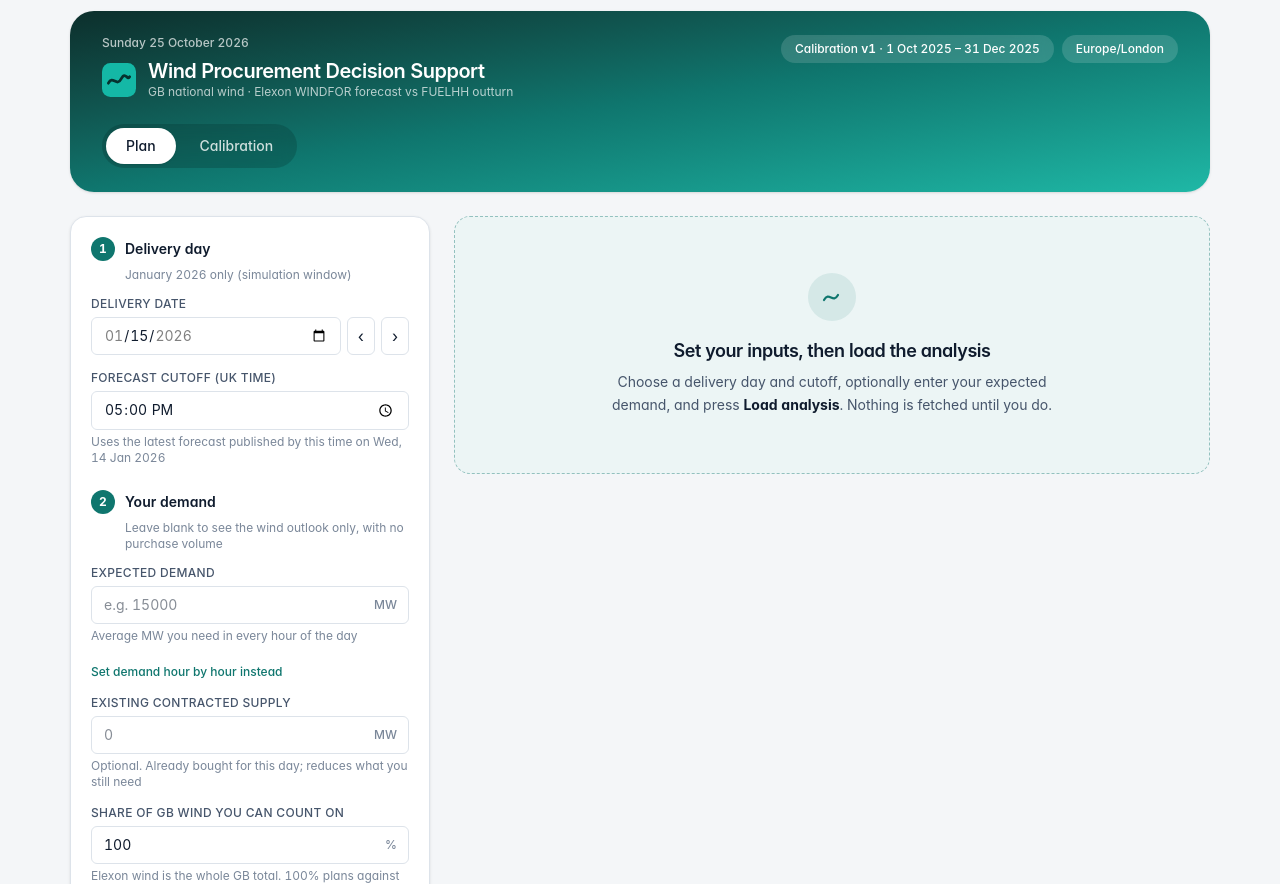
Purchase plan › shows a clear 'no purchase needed' result and the wind-share hint
Step 1. Type "500" into the field labelled "Expected demand" → (250, 605), box 91,586 -> 409,624
(page scrolled)
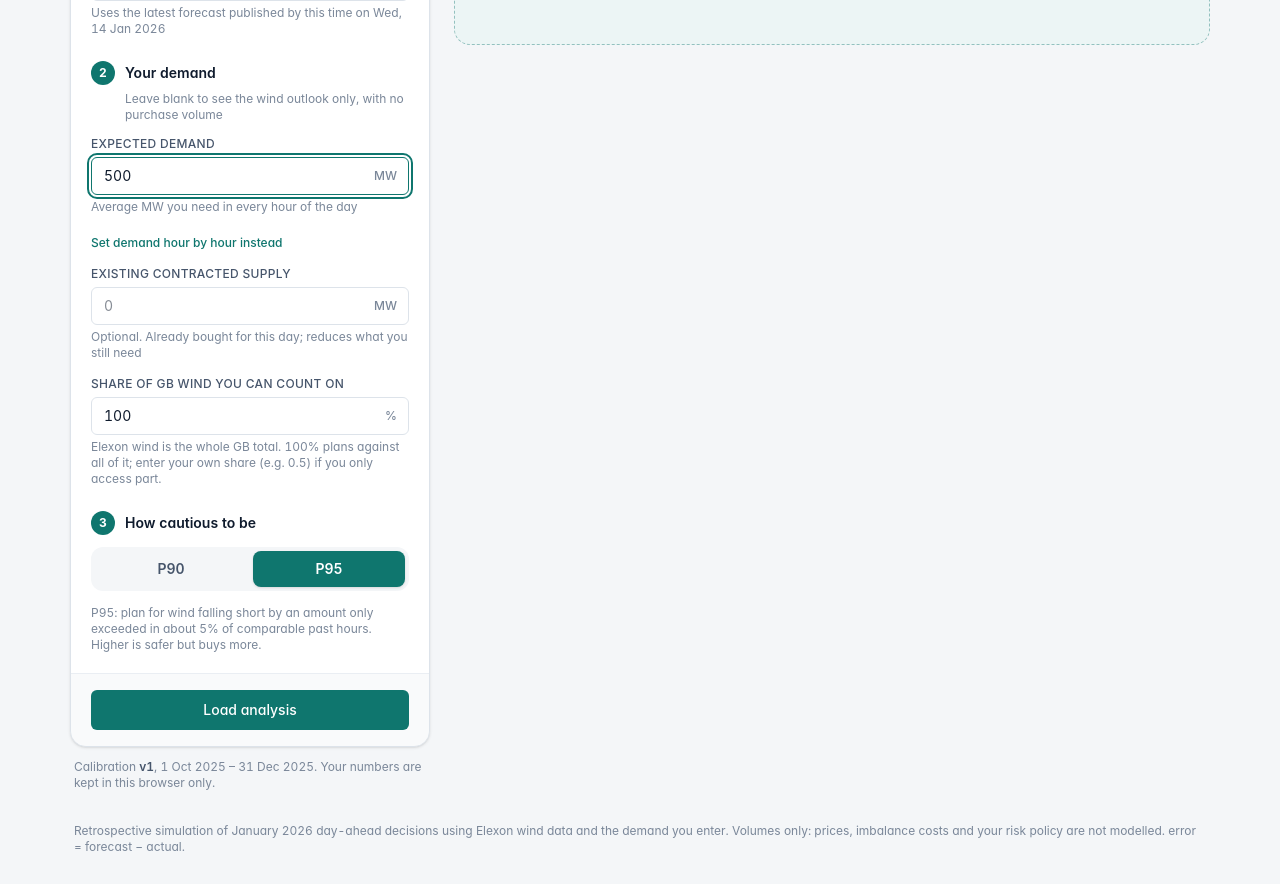
Step 2. Click the button "Load analysis" → (250, 710), box 91,690 -> 409,730
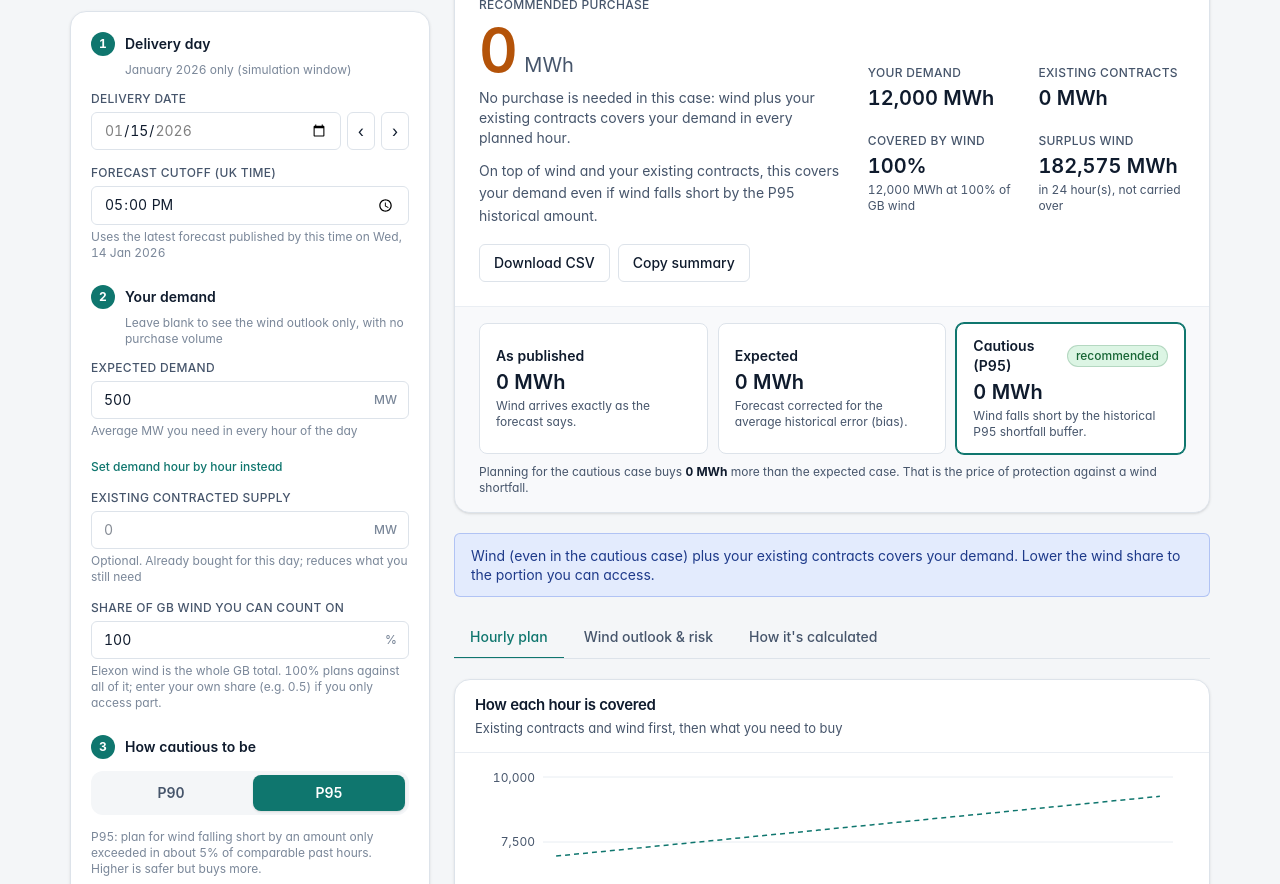
expect the text "No purchase is needed in this case" is shown: met, box 479,88 -> 815,146
expect the text with test id "buy-total" reads "0": met, box 479,14 -> 516,86
expect the text "Lower the wind share" is shown: met, box 471,547 -> 1180,583
